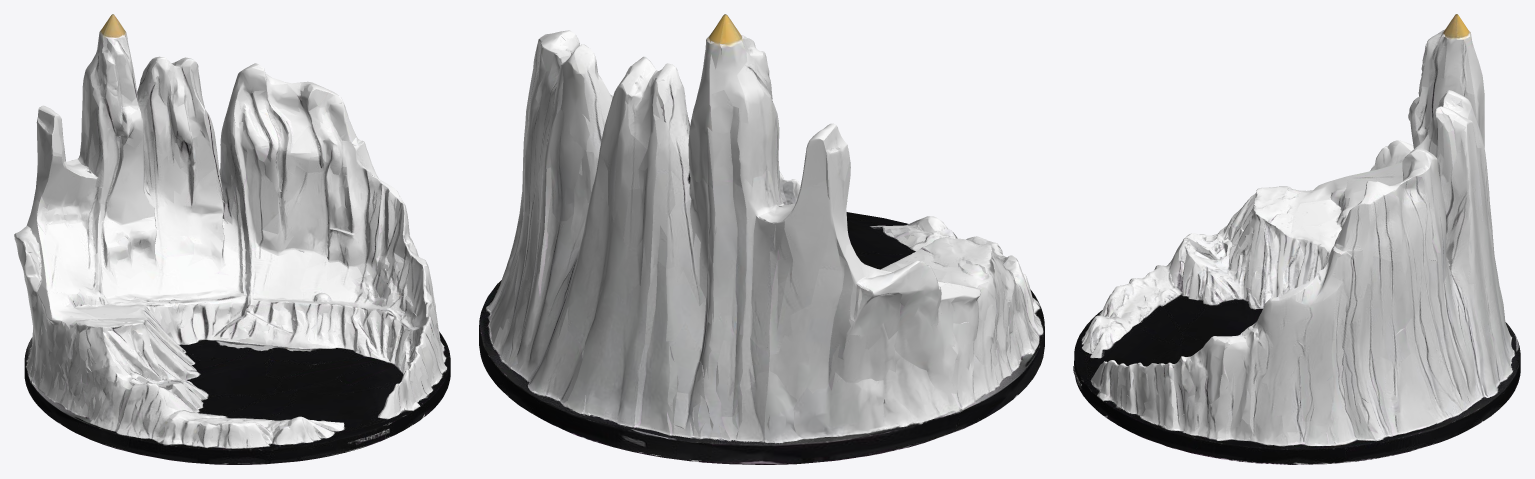
Rendered from torres_del_paine.glb.
3 views of the same model, side by side, from view 1: azimuth 30°, elevation 25°; view 2: azimuth 150°, elevation 25°; view 3: azimuth 270°, elevation 25° (orthographic). The views are drawn at different scales.
Bounding box in the file's own units: 1.89 × 1.56 × 1.9.
Materials: 1 (1 with a texture image).
